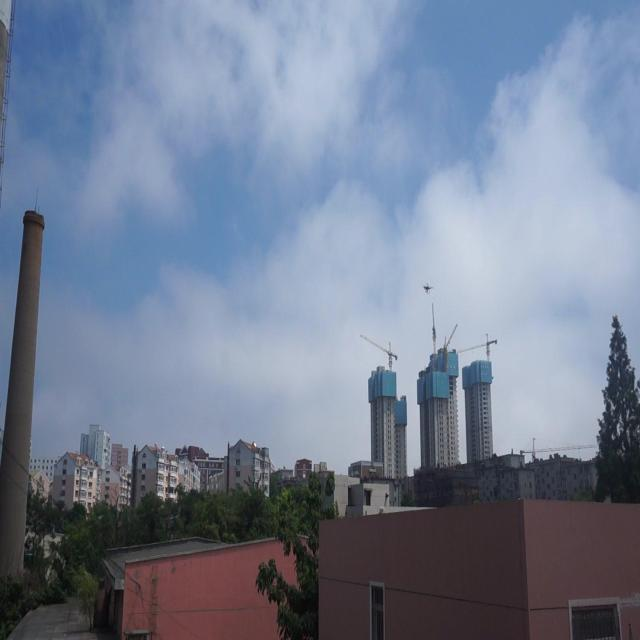drone: (420, 280, 435, 298)
